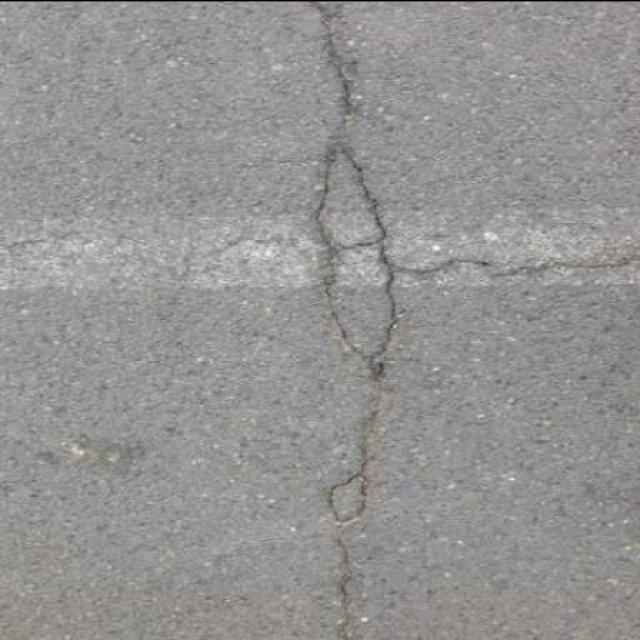Crack: (313, 0, 492, 640), (328, 270, 399, 640), (313, 0, 386, 284), (319, 221, 493, 321), (489, 251, 639, 278), (325, 10, 342, 65)
